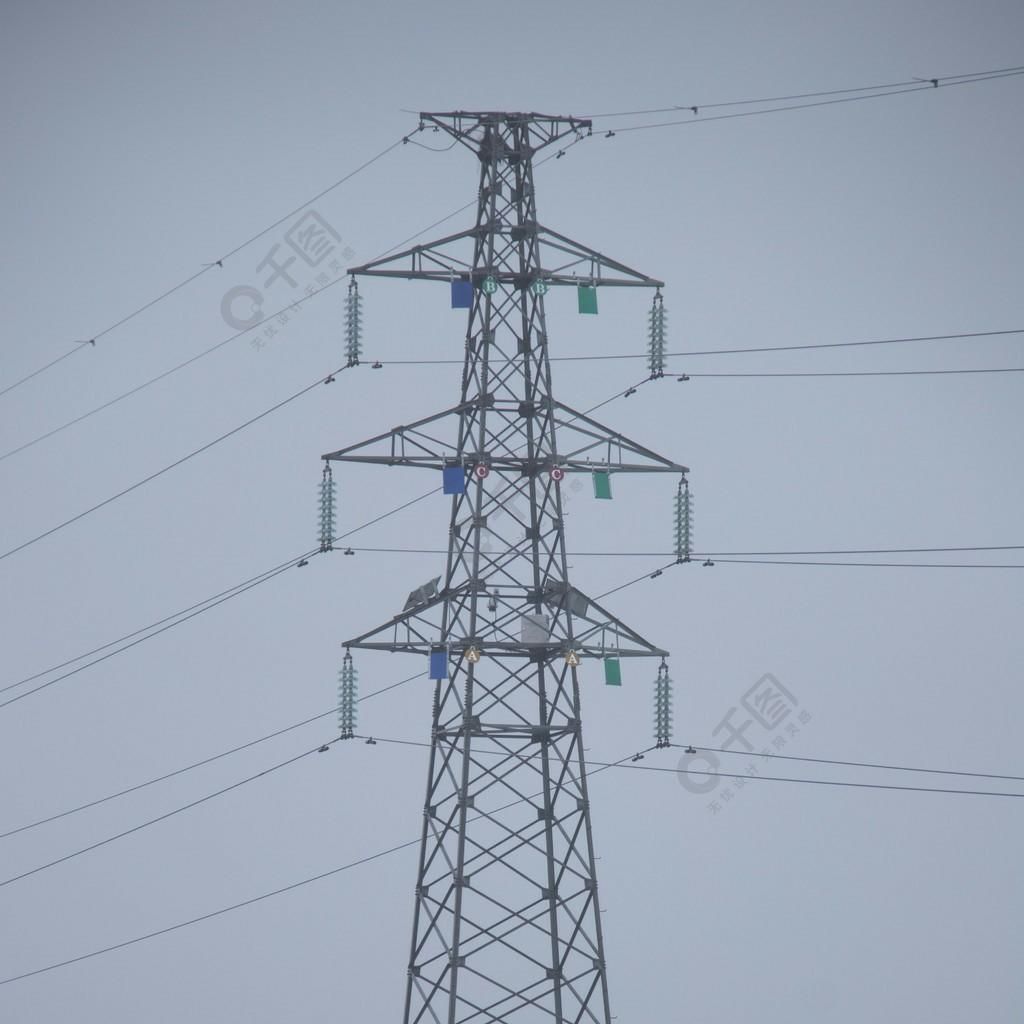power_tower: (303, 101, 707, 1024)
